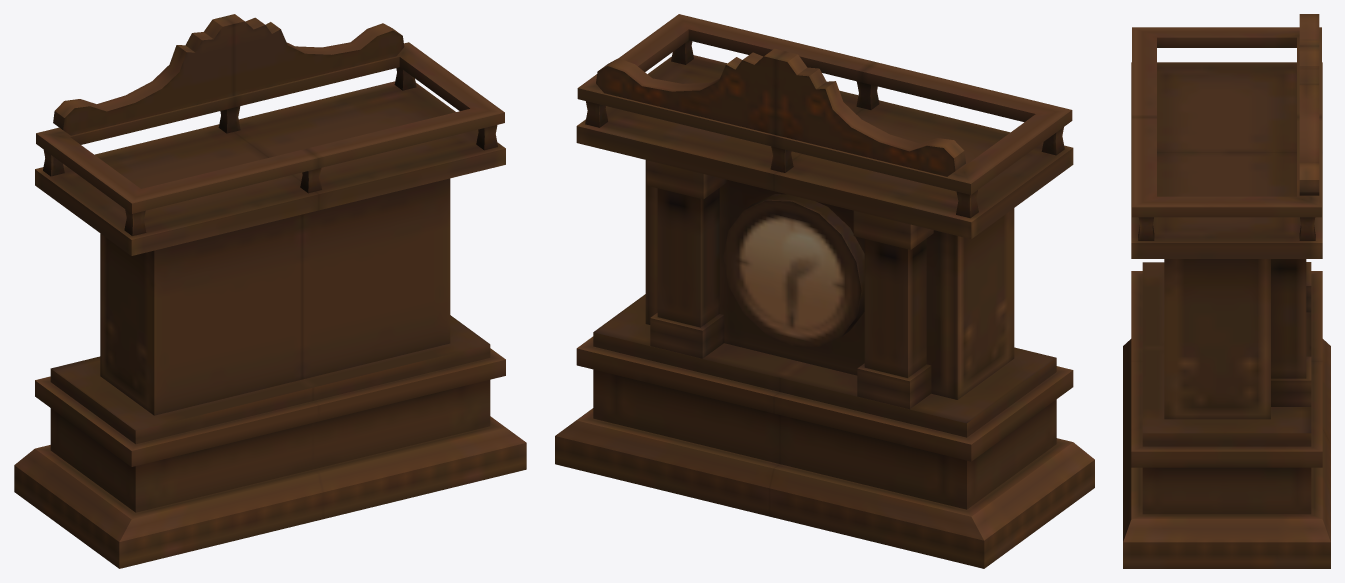
Rendered from Clock_05.gltf.
3 renders of one model, left to right at view 1: azimuth 30°, elevation 25°; view 2: azimuth 150°, elevation 25°; view 3: azimuth 270°, elevation 25°, orthographic. The views are drawn at different scales.
Parts seen in each view (by area): view 1: Clock_05; view 2: Clock_05; view 3: Clock_05.
Part boxes in pixels (bbox=[...]): Clock_05: bbox=[14, 14, 526, 568]; Clock_05: bbox=[555, 14, 1094, 568]; Clock_05: bbox=[1123, 14, 1330, 568].
Bounding box in the file's own units: 35.07 × 35.37 × 15.68.
Materials: 1 (1 with a texture image).
